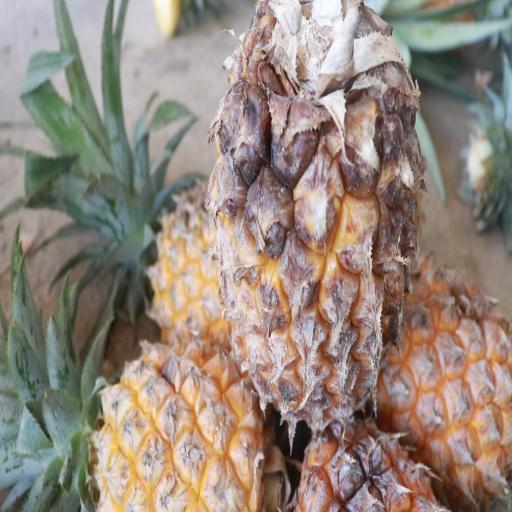Pineapple - v8 v1: (208, 0, 422, 440), (54, 294, 270, 512), (361, 269, 512, 507)
